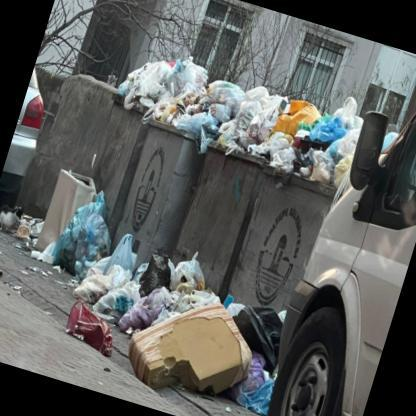Garbage: (115, 35, 366, 192), (76, 230, 165, 334), (268, 81, 349, 163), (48, 186, 115, 276), (31, 234, 94, 300), (158, 54, 214, 113), (56, 300, 115, 353), (128, 49, 178, 108), (166, 244, 216, 301), (132, 236, 174, 298), (249, 124, 302, 171), (307, 102, 352, 152), (106, 230, 146, 280), (238, 351, 272, 408), (4, 209, 47, 254), (302, 136, 342, 184), (202, 68, 242, 115), (120, 292, 160, 337), (245, 102, 282, 148), (79, 264, 112, 302), (106, 278, 142, 311), (233, 97, 262, 121), (244, 78, 269, 100)
